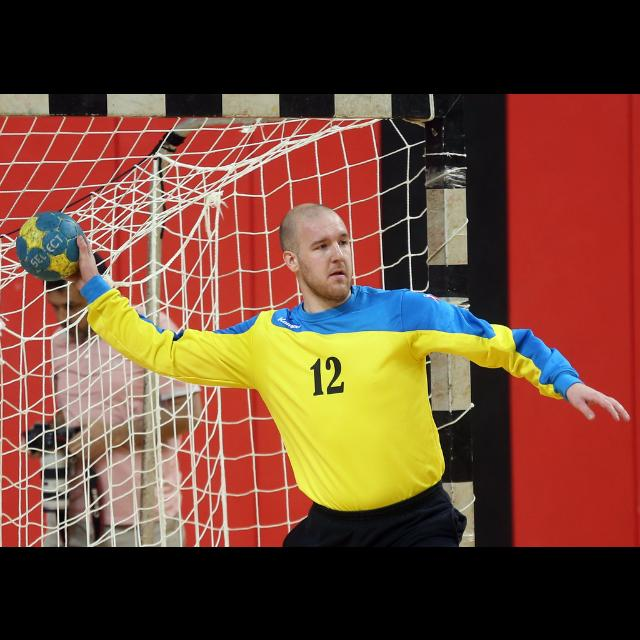Football: (13, 207, 87, 281)
